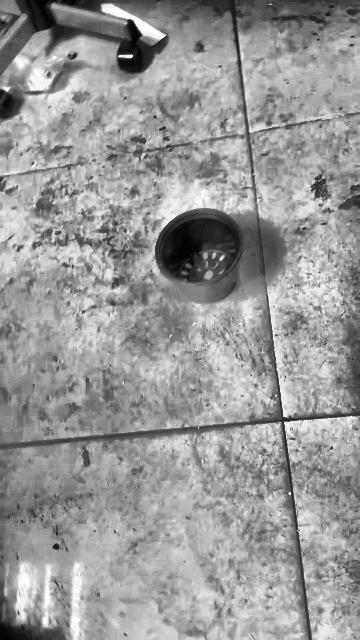pot: (156, 208, 243, 303)
